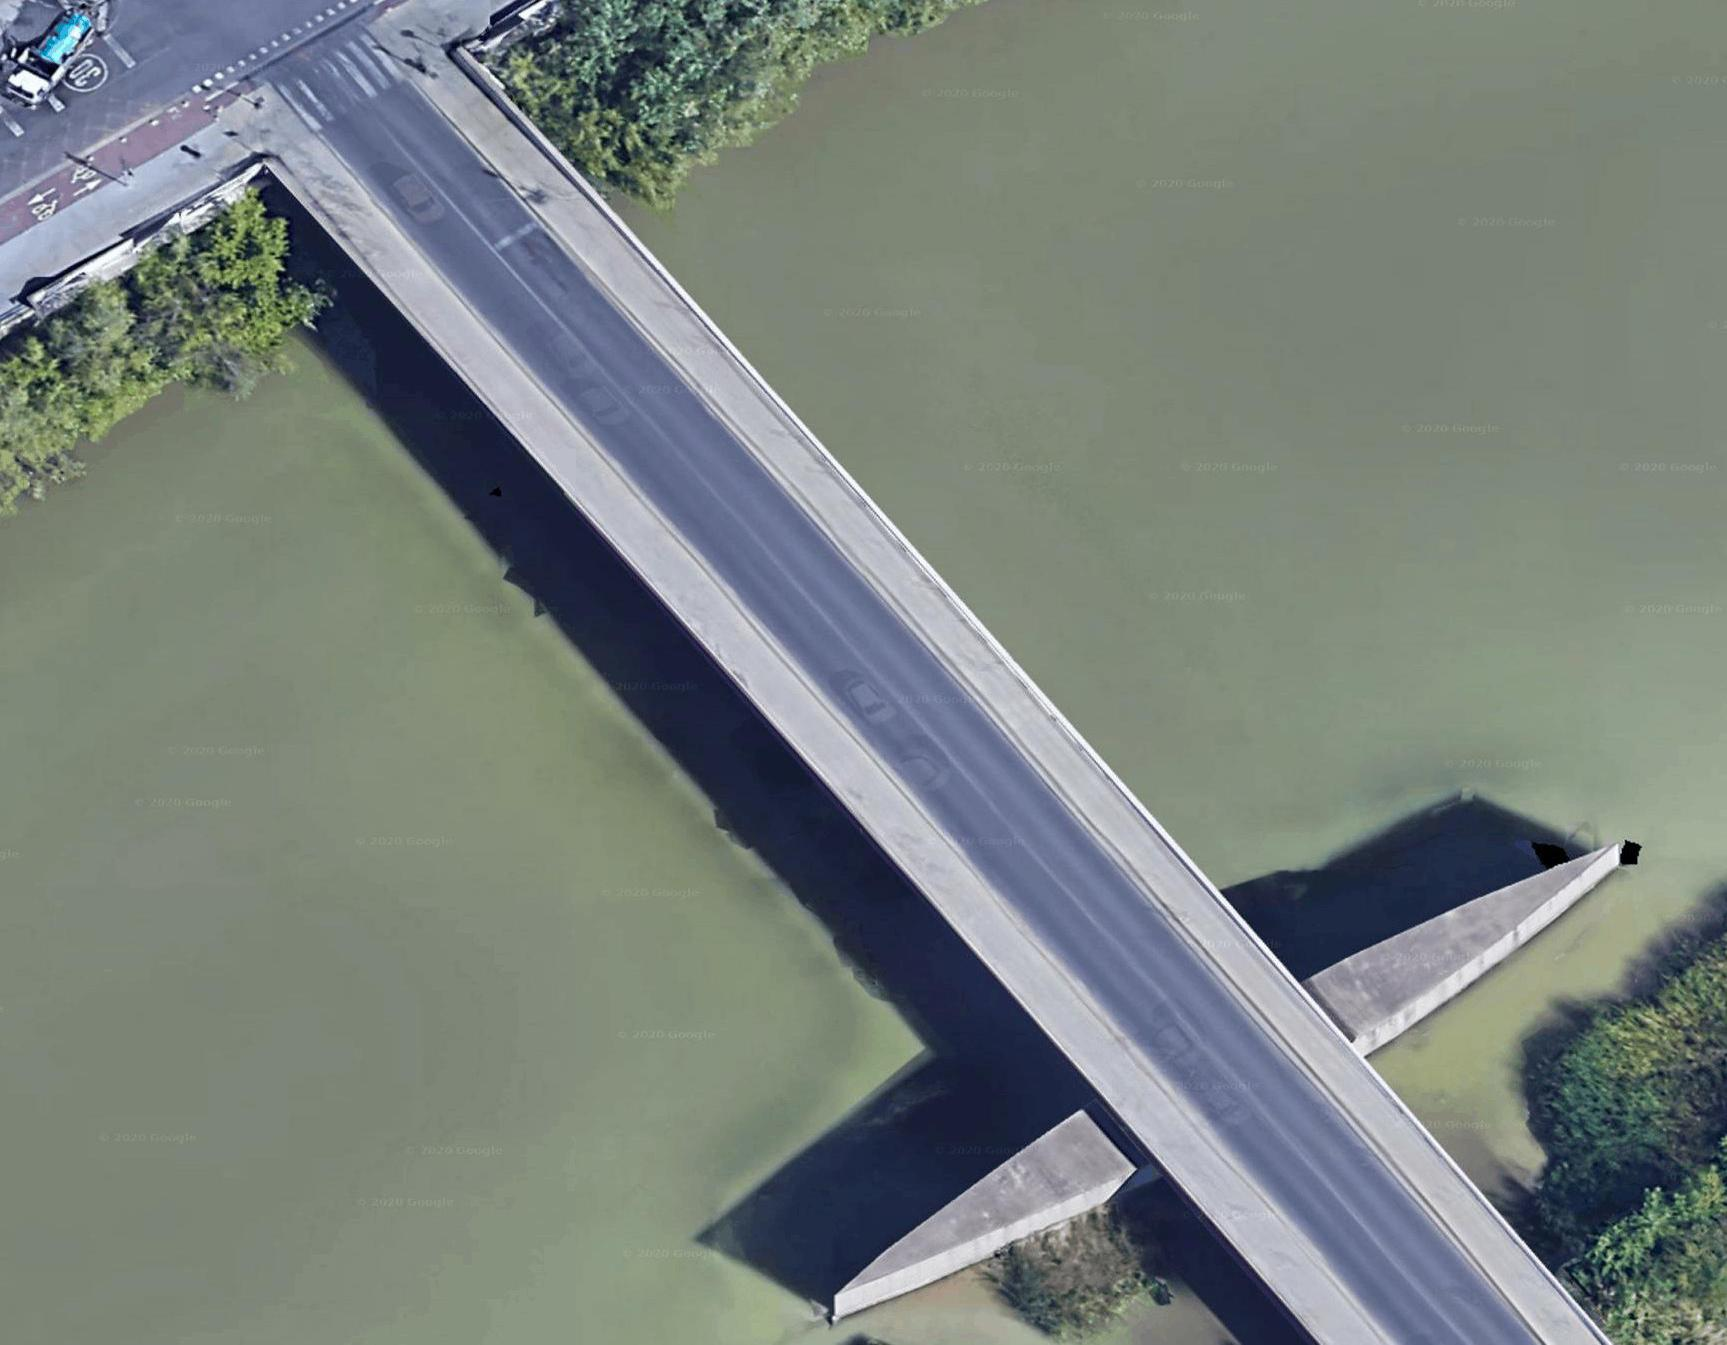bridge: (245, 144, 1592, 1287)
